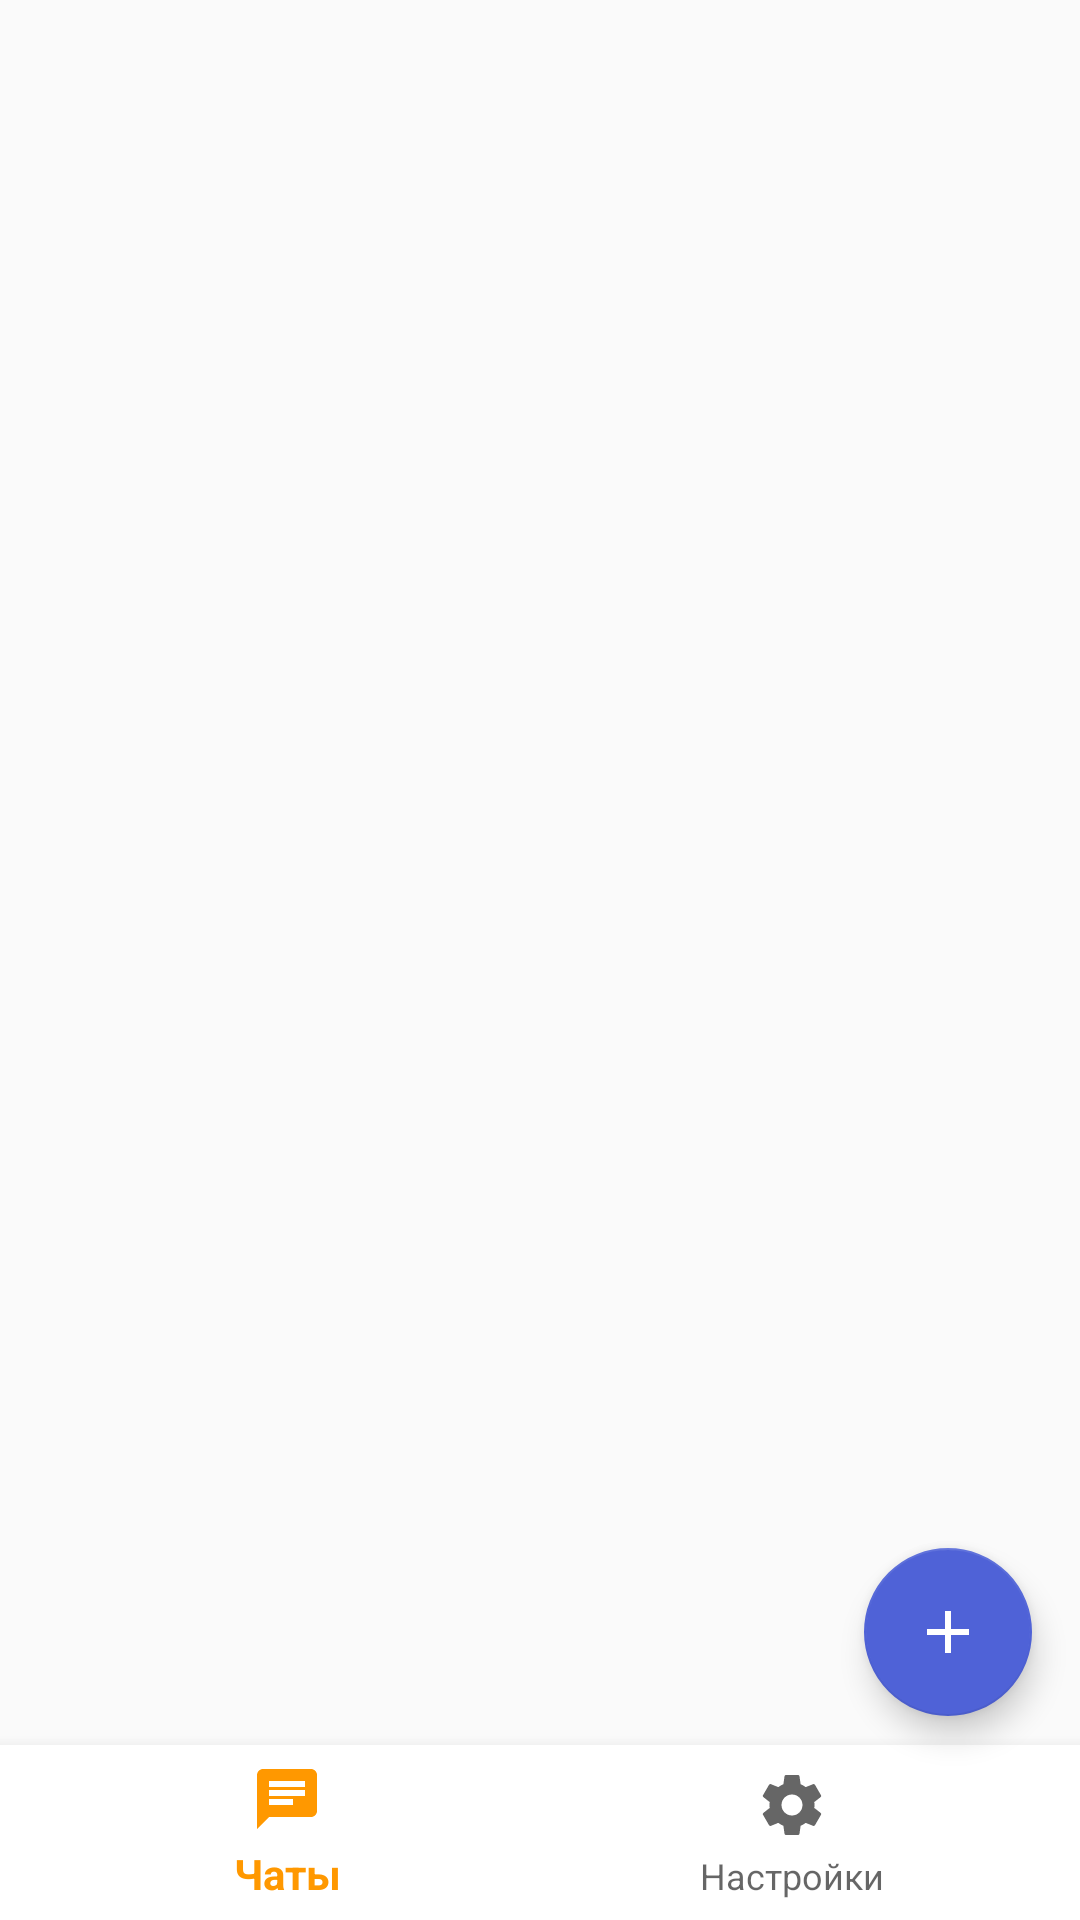

Locate icon controls on the screen. Image size 1080w x 1920h, boxes as (x1=x1, y1=y1, x2=x2, y2=y2).
add: (x1=864, y1=1548, x2=1032, y2=1716)
